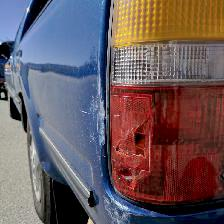tail_lamp: (86, 88, 156, 223)
